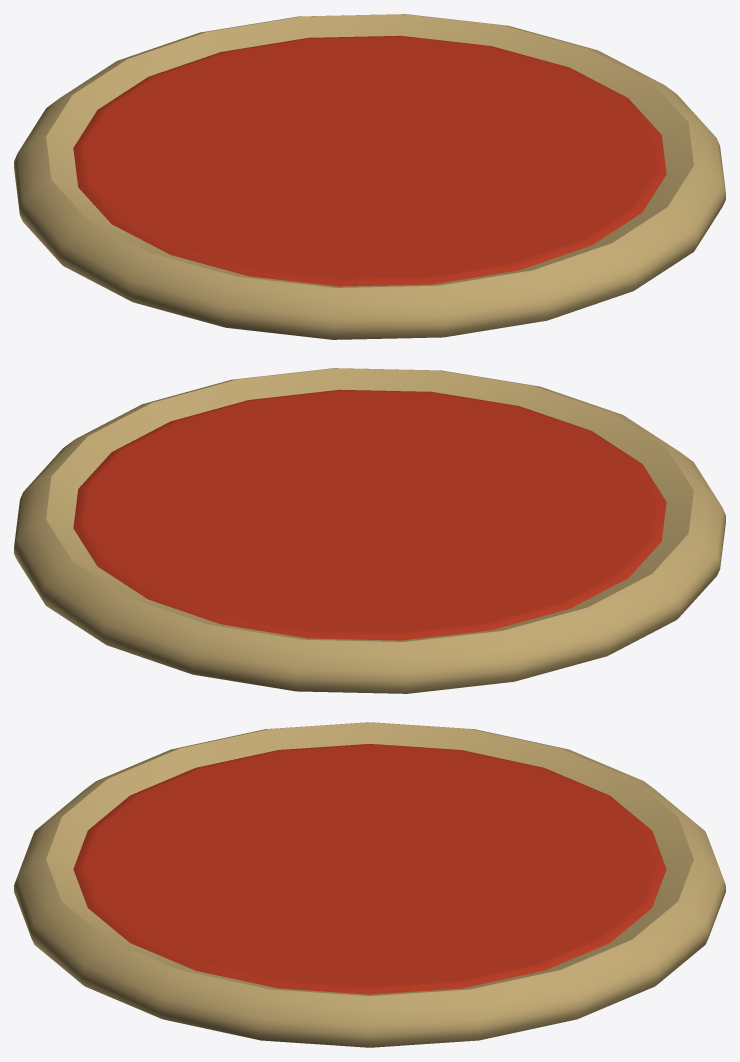
Rendered from crust.glb.
The picture shows the model from 3 angles, top to bottom: view 1: azimuth 30°, elevation 25°; view 2: azimuth 150°, elevation 25°; view 3: azimuth 270°, elevation 25°; orthographic projection.
Visible parts, largest first — view 1: pCylinder1; view 2: pCylinder1; view 3: pCylinder1.
Boxes of the visible parts, x1,y1,x2,y2 form: pCylinder1: [14, 14, 725, 339]; pCylinder1: [14, 368, 725, 693]; pCylinder1: [14, 722, 725, 1047].
Bounding box in the file's own units: 0.1 × 0.00656 × 0.1.
